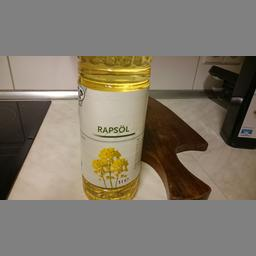oil: (76, 55, 150, 199)
